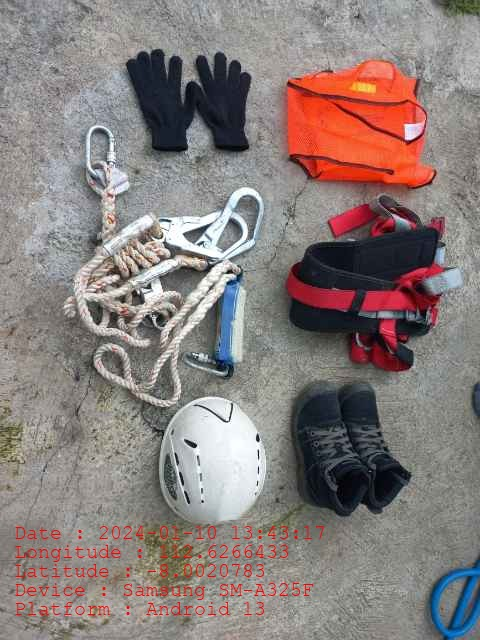HELM: (159, 397, 266, 524)
ROMPI: (284, 60, 429, 188)
SARUNG_TANGAN: (125, 48, 196, 155), (194, 51, 252, 153)
SEPATU: (290, 380, 407, 520)
TAMBANG_SLING: (62, 184, 264, 396)
